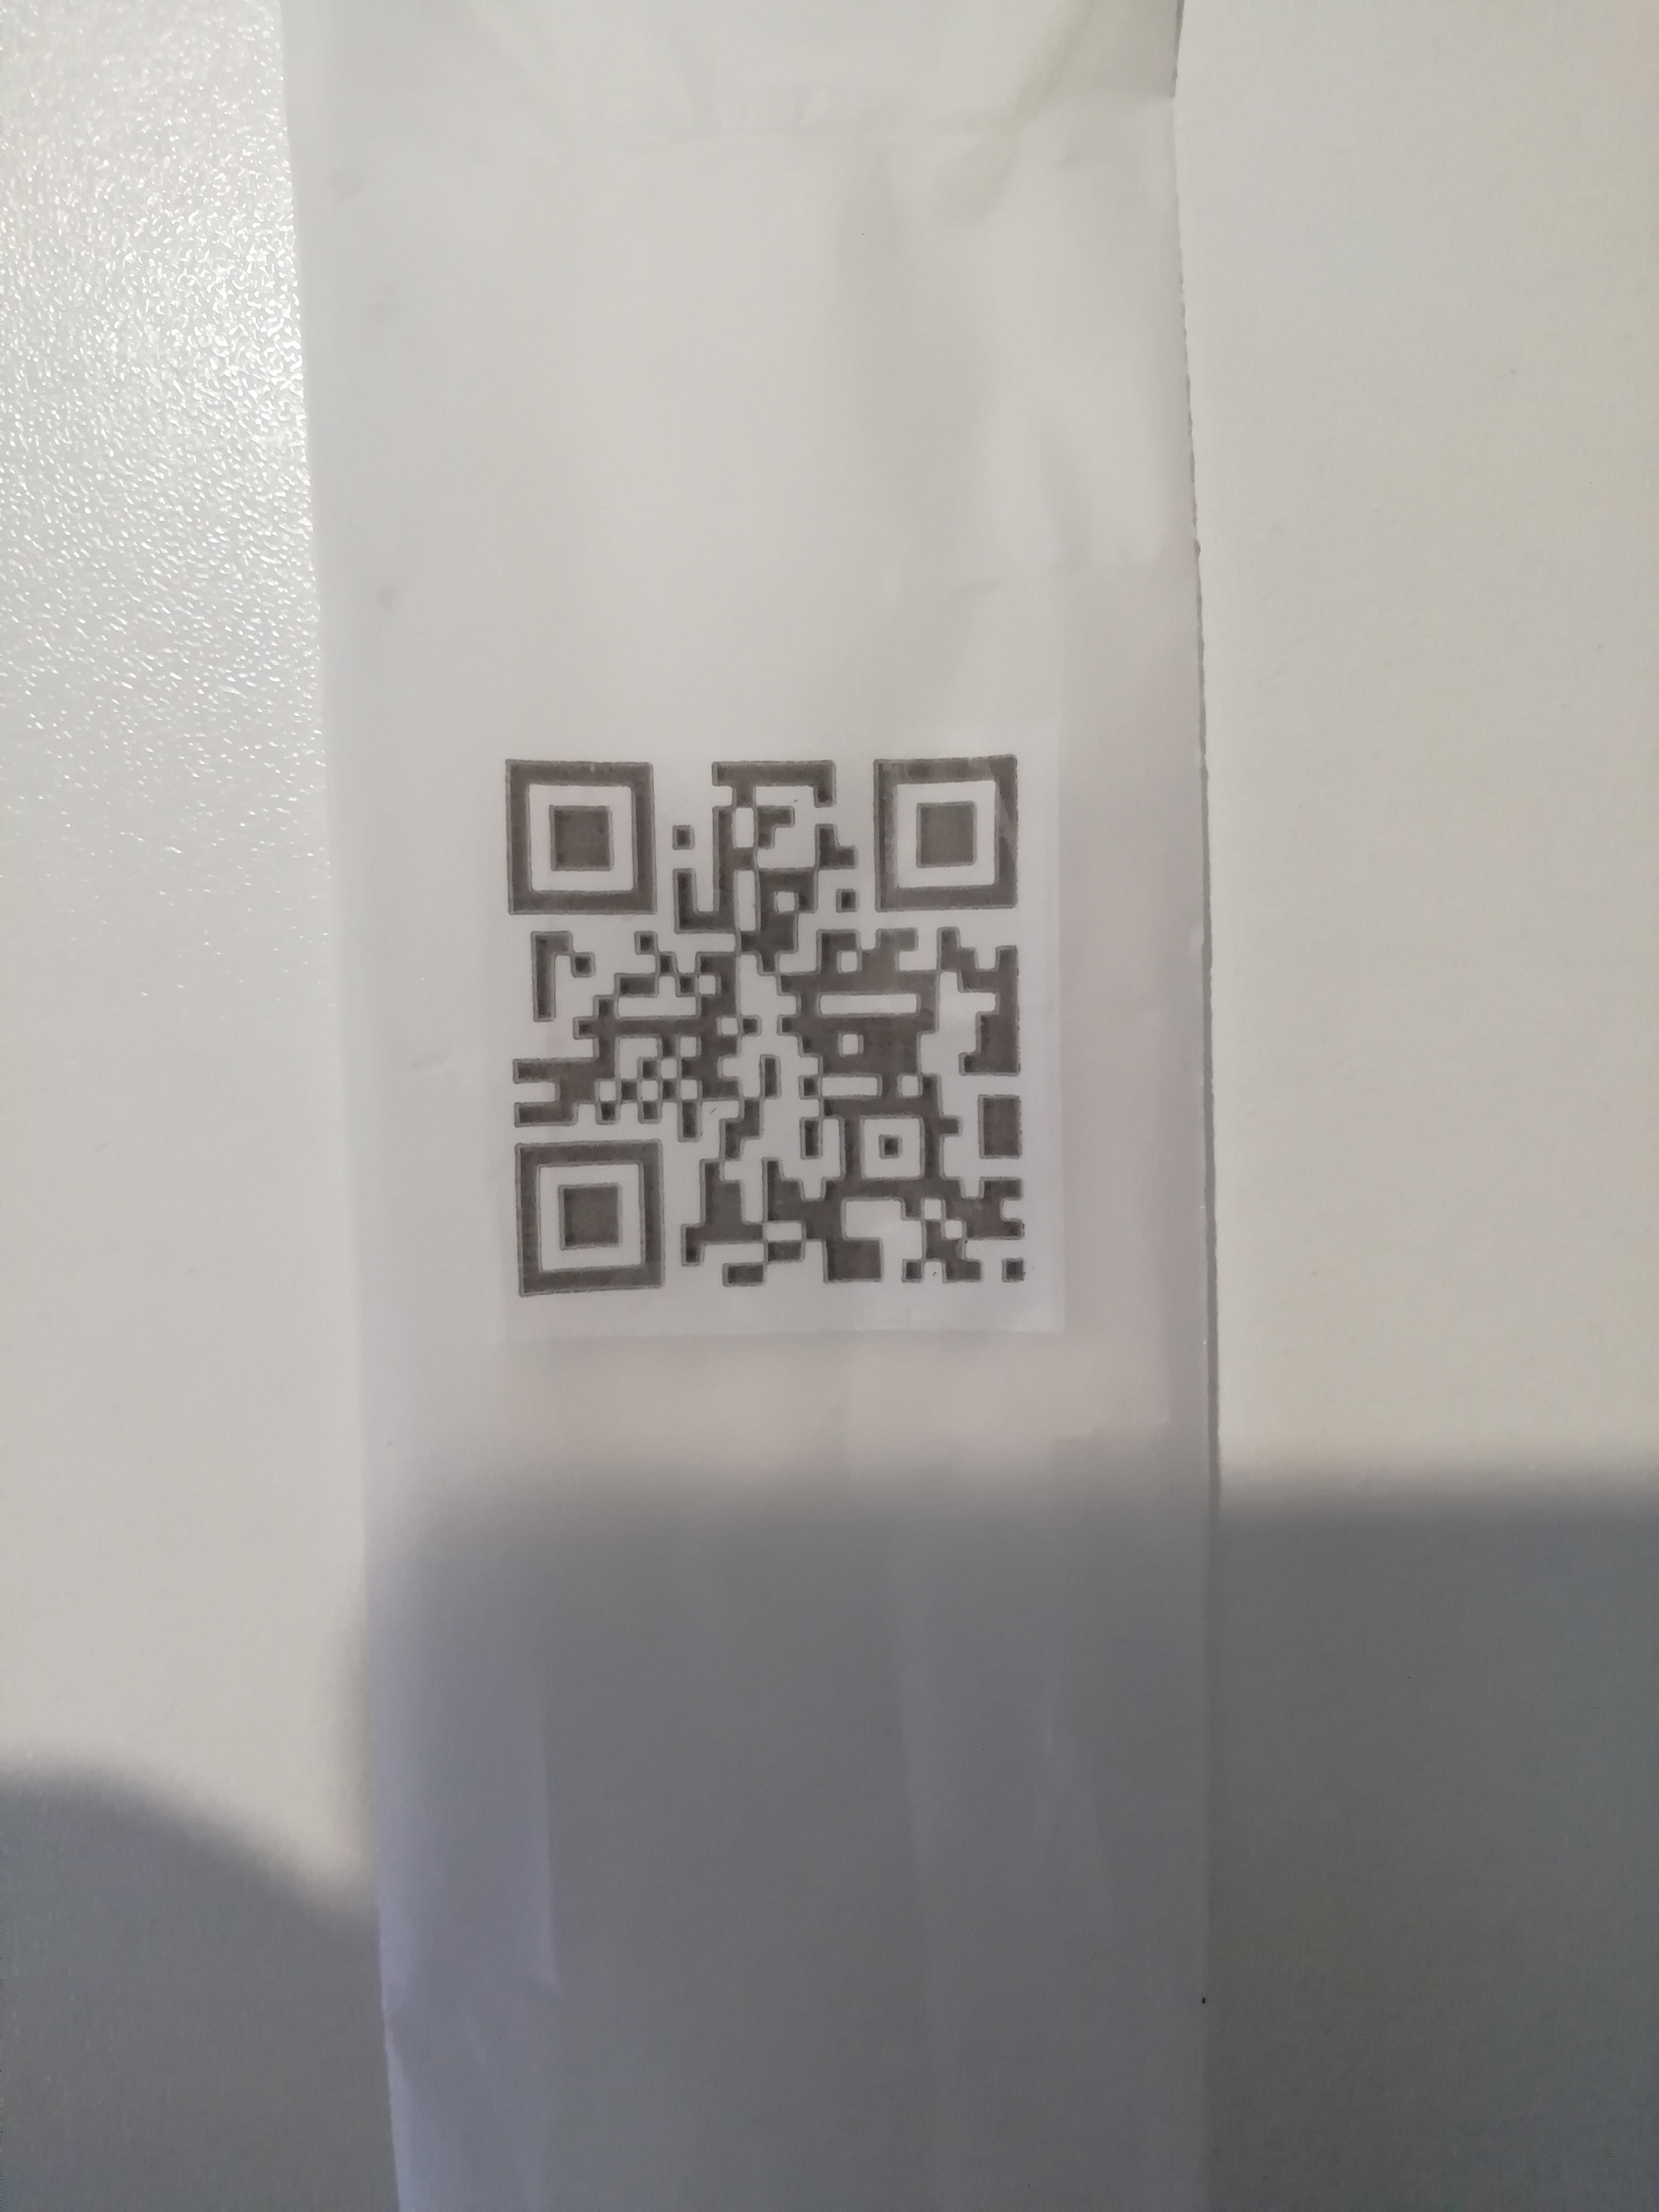qrcode: (504, 754, 1028, 1296)
